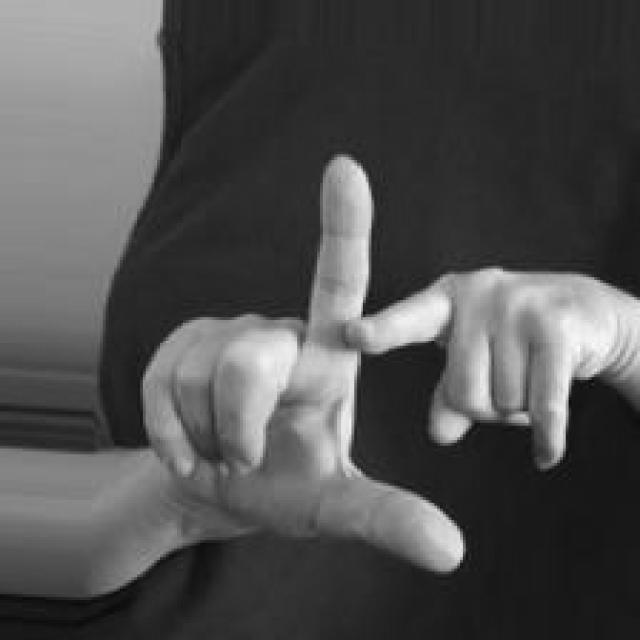J: (133, 149, 640, 576)
